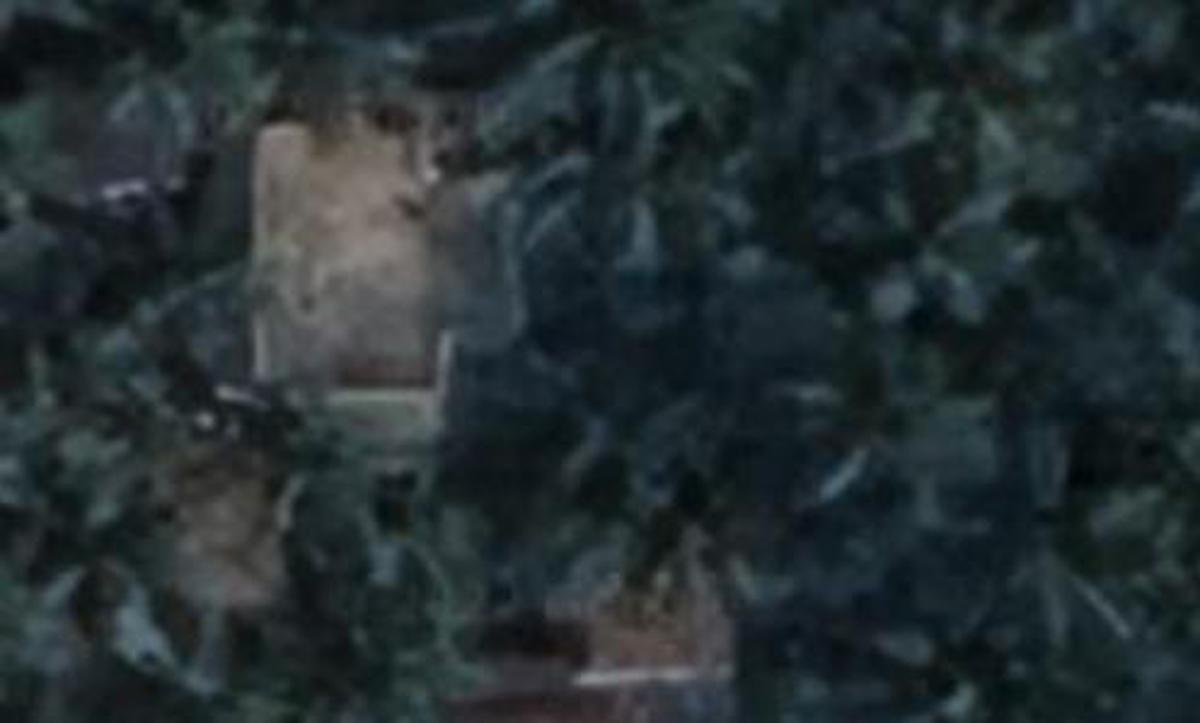coconut: (977, 418, 1178, 640), (527, 65, 750, 261), (771, 328, 972, 505), (854, 157, 1023, 340), (604, 449, 779, 602), (21, 483, 183, 638), (113, 193, 261, 360), (883, 16, 1054, 159), (232, 372, 394, 522), (82, 0, 237, 152), (261, 597, 445, 723), (319, 473, 471, 614), (554, 355, 691, 495)
